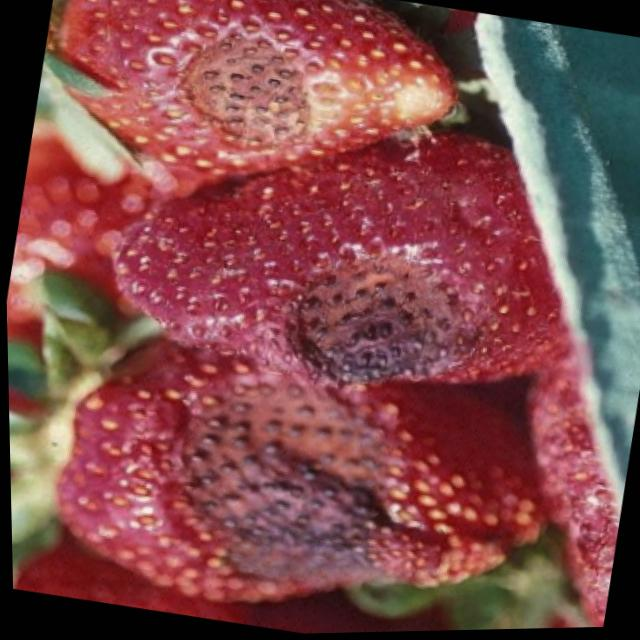Anthracnose Fruit Rot: (149, 368, 401, 599), (277, 242, 485, 389), (162, 20, 315, 156)
